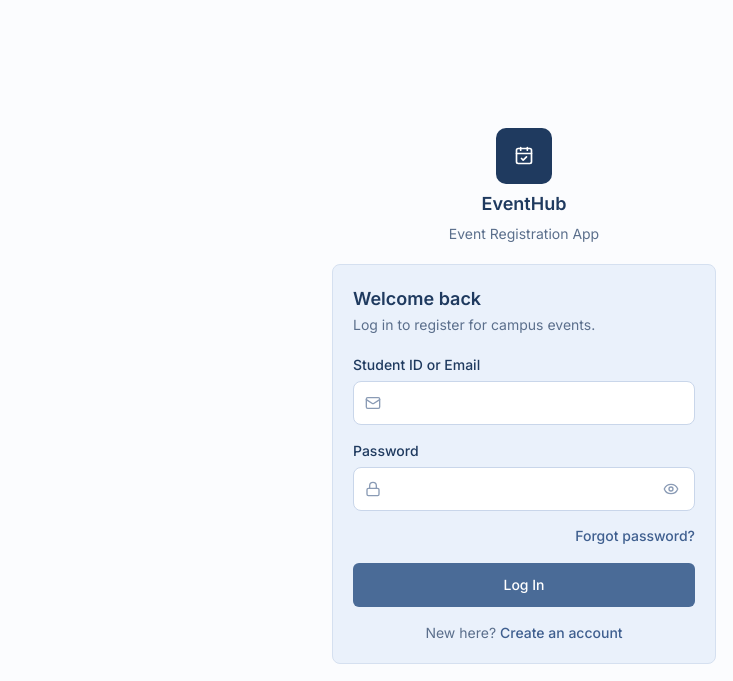
Test case: Login › logs in and redirects to the home page
Type "jan.nino@school.edu" into the field labelled "Student ID or Email". click: (524, 403)
box: [353,381,695,425]
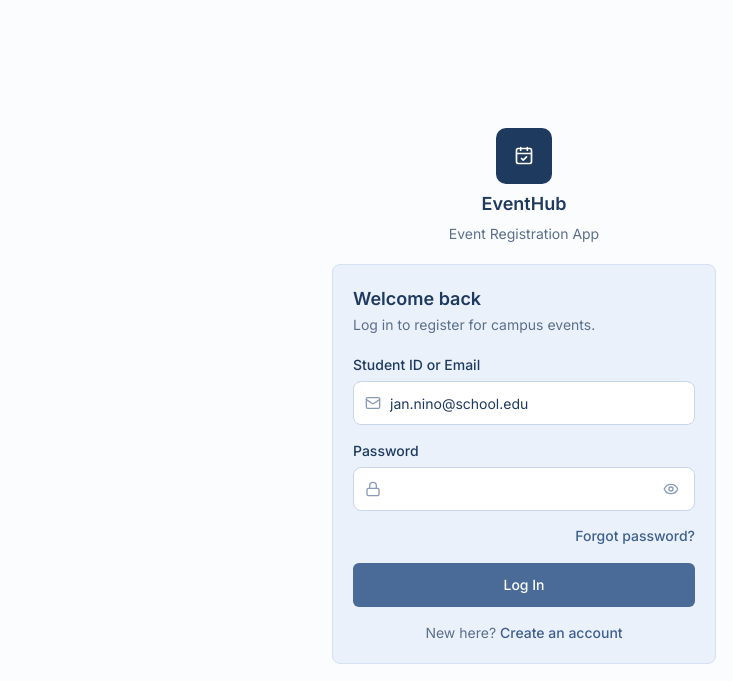
Type "password" into the password field labelled "Password". click: (524, 489)
box: [353,467,695,511]
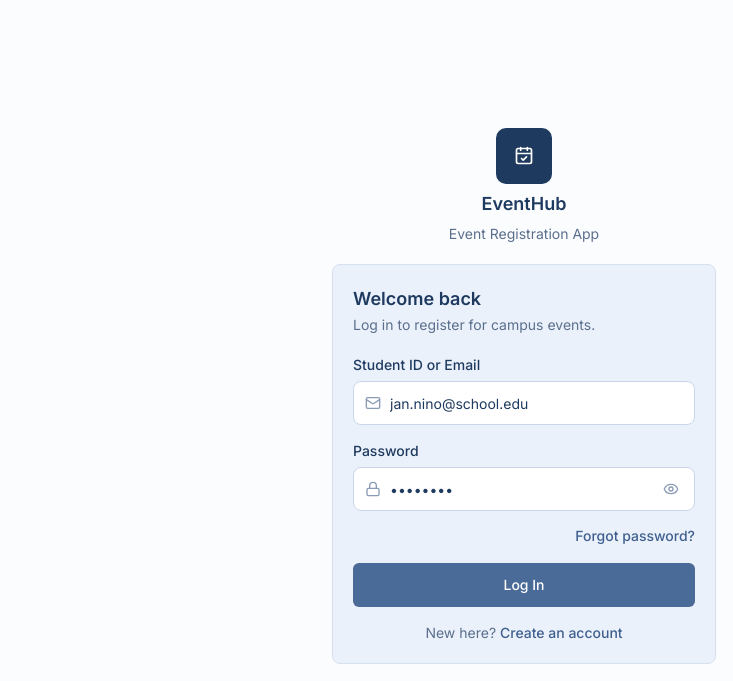
Click the button "Log In". click: (524, 585)
box: [353,563,695,607]
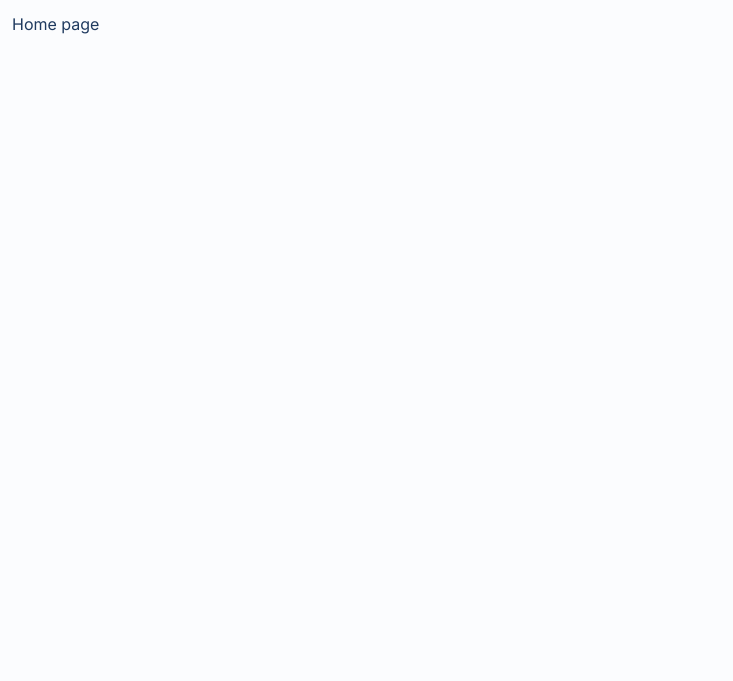
Now the text "Home page" is shown, box [12,14,99,34]
